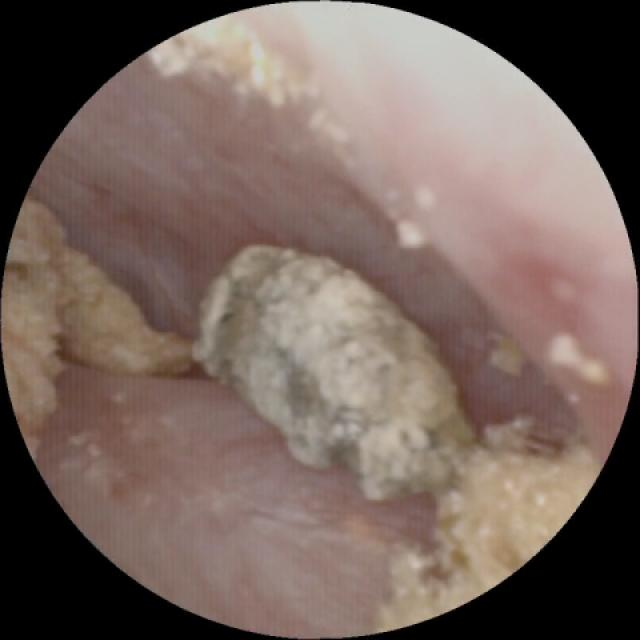stone: (5, 202, 596, 627), (488, 332, 527, 379)
